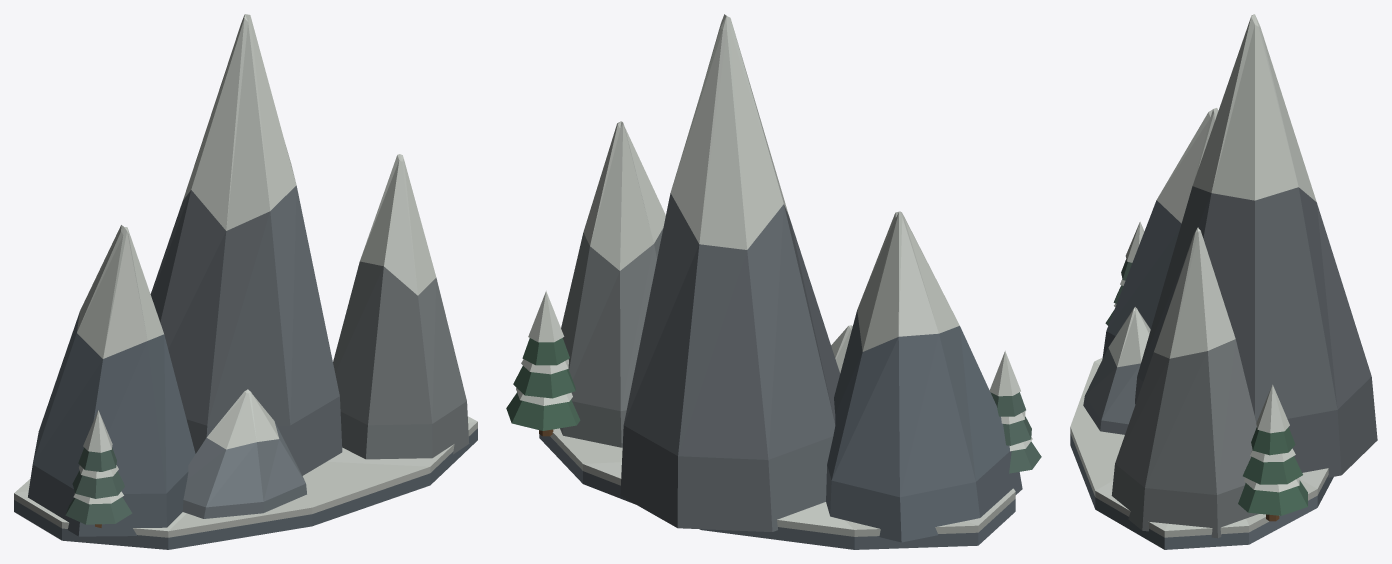
3 renders of one model, left to right at view 1: azimuth 30°, elevation 25°; view 2: azimuth 150°, elevation 25°; view 3: azimuth 270°, elevation 25°, orthographic. The views are drawn at different scales.
Visible parts, largest first — view 1: S01_雪峰营地; view 2: S01_雪峰营地; view 3: S01_雪峰营地.
Boxes of the visible parts, x1,y1,x2,y2 form: S01_雪峰营地: (14, 14, 477, 549); S01_雪峰营地: (506, 14, 1041, 549); S01_雪峰营地: (1070, 14, 1377, 549).
Size of the model in its own units: 4.75 by 4.69 by 2.95.
